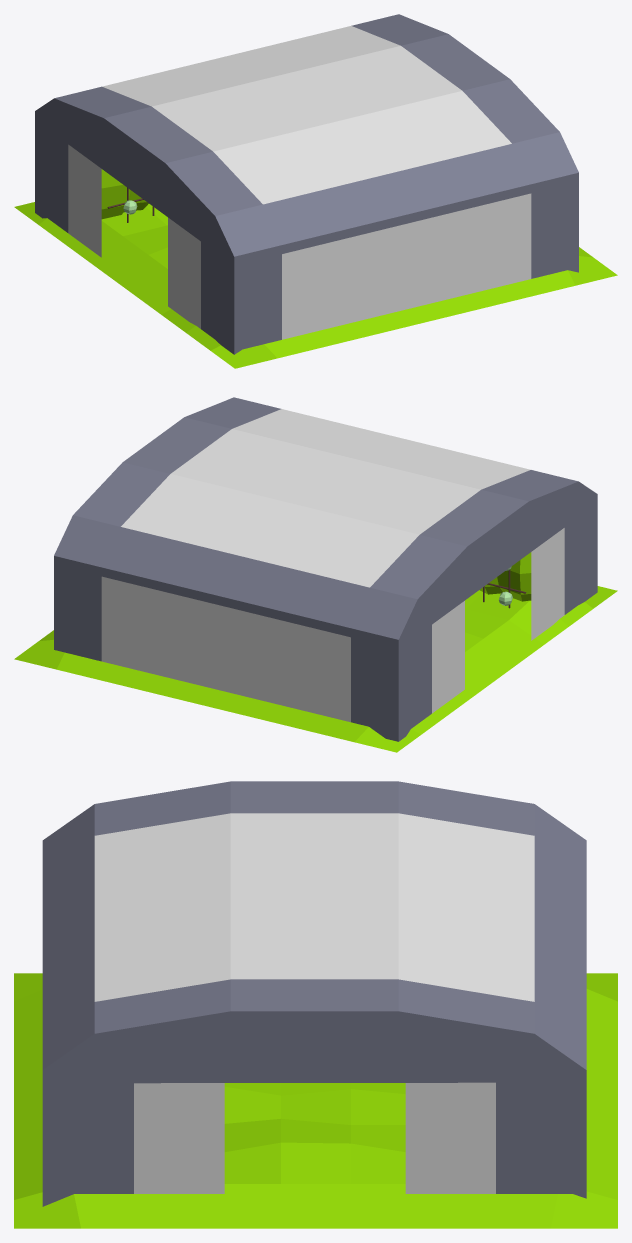
File: MelonFarm.fbx
3 views of the same model, one above another, from view 1: azimuth 30°, elevation 25°; view 2: azimuth 150°, elevation 25°; view 3: azimuth 270°, elevation 25° (orthographic). The views are drawn at different scales.
Visible parts, largest first — view 1: Plane.013; view 2: Plane.013; view 3: Plane.013.
Boxes of the visible parts, box(x1,y1,x2,y2) form: Plane.013: box(14, 14, 617, 368); Plane.013: box(14, 397, 617, 752); Plane.013: box(14, 781, 617, 1228).
Size of the model in its own units: 2457 by 903 by 2457.
